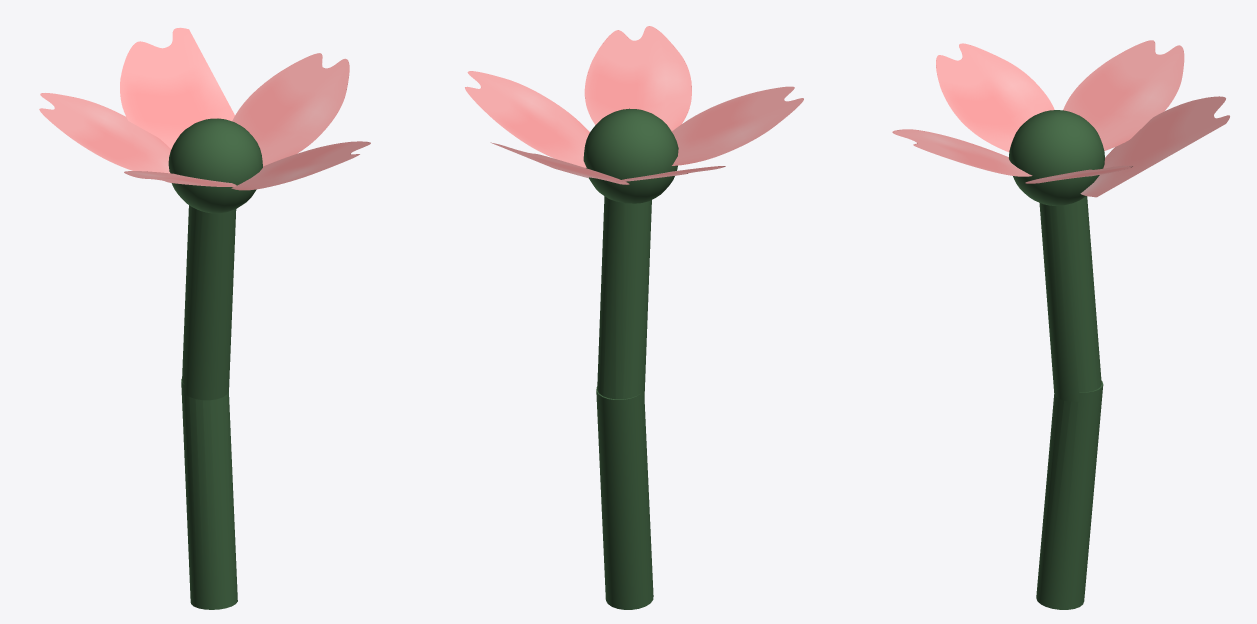
Rendered from flower.fbx.
The picture shows the model from 3 angles, left to right: view 1: azimuth 30°, elevation 25°; view 2: azimuth 150°, elevation 25°; view 3: azimuth 270°, elevation 25°; orthographic projection.
Visible parts, largest first — view 1: pCylinder3, pPlane6; view 2: pCylinder3, pPlane6; view 3: pCylinder3, pPlane6.
Boxes of the visible parts, x1,y1,x2,y2 form: pCylinder3: [168, 118, 262, 609]; pPlane6: [39, 27, 370, 190]; pCylinder3: [583, 108, 678, 609]; pPlane6: [465, 26, 803, 184]; pCylinder3: [1009, 110, 1104, 609]; pPlane6: [892, 40, 1229, 197].
Size of the model in its own units: 0.8189 by 1.18 by 0.8071.
Materials: 2 (1 with a texture image).
